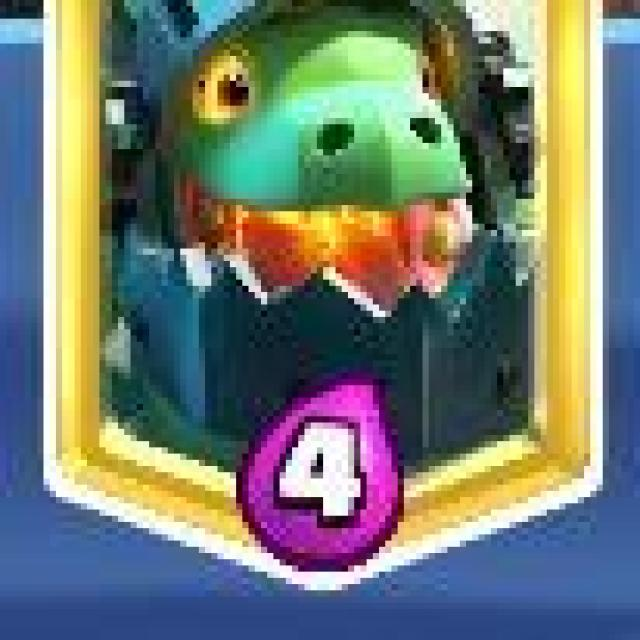Inferno_Dragon: (41, 0, 606, 593)
